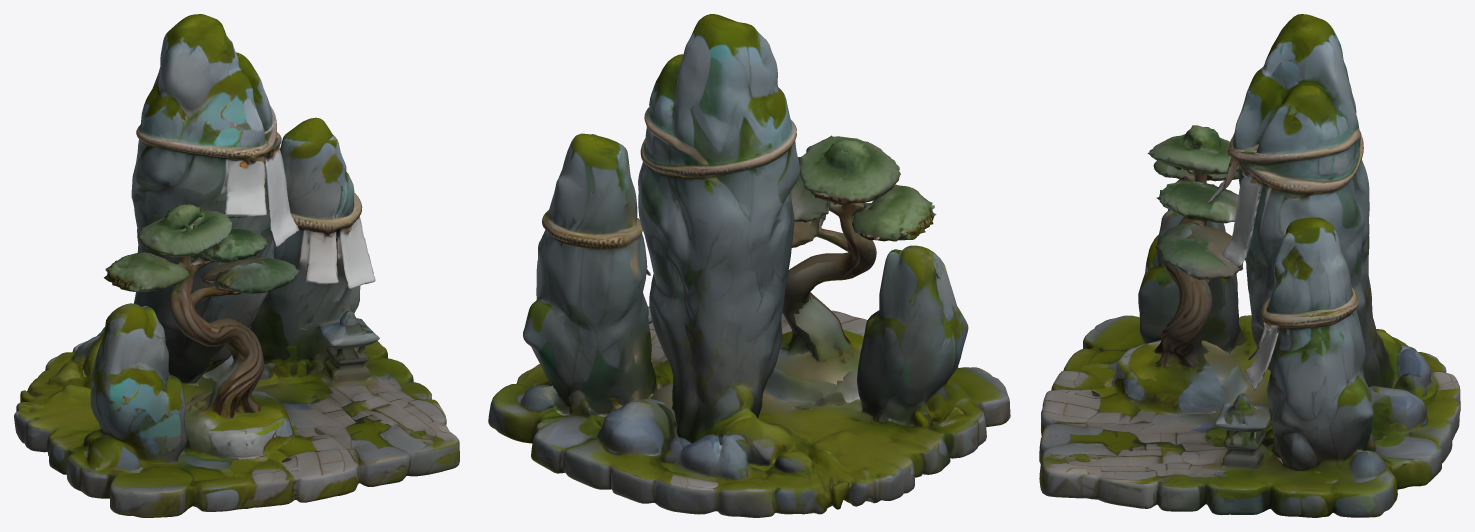
Rendered from rock_garden.glb.
3 views of the same model, side by side, from view 1: azimuth 30°, elevation 25°; view 2: azimuth 150°, elevation 25°; view 3: azimuth 270°, elevation 25° (orthographic). The views are drawn at different scales.
Parts seen in each view (by area): view 1: texture_pbr_v128; view 2: texture_pbr_v128; view 3: texture_pbr_v128.
Part boxes in pixels (x1,y1,x2,y2): texture_pbr_v128: (14,14,459,517); texture_pbr_v128: (488,14,1010,517); texture_pbr_v128: (1039,14,1460,517).
Size of the model in its own units: 0.7587 by 0.7883 by 0.7374.
Materials: 1 (1 with a texture image).
